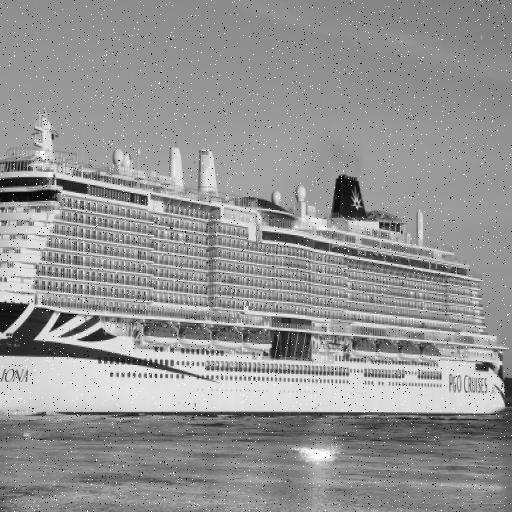cruises: (1, 102, 511, 430)
